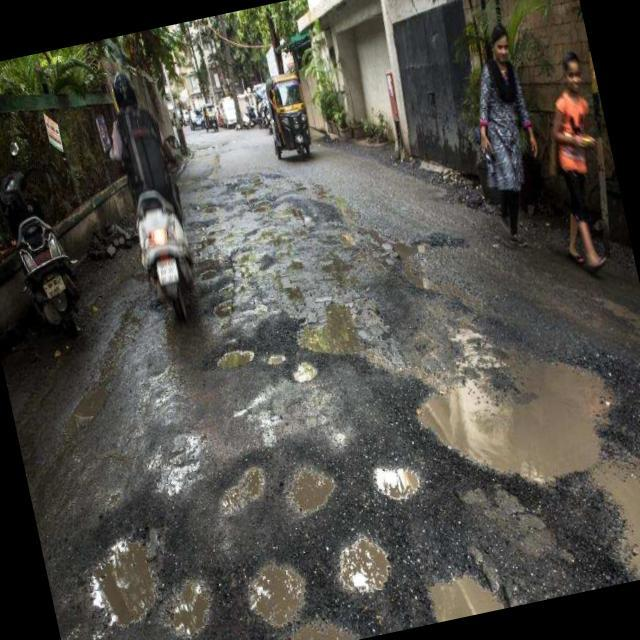Pothole: (406, 316, 640, 512), (577, 429, 640, 586), (76, 528, 170, 629), (414, 548, 516, 625), (291, 292, 382, 376), (236, 546, 312, 631), (324, 528, 395, 604), (207, 452, 269, 518), (280, 454, 340, 522), (378, 210, 444, 270), (60, 368, 117, 434), (158, 576, 214, 636), (372, 450, 424, 504), (213, 336, 257, 376), (290, 353, 322, 391), (264, 341, 288, 373), (198, 262, 222, 288)
